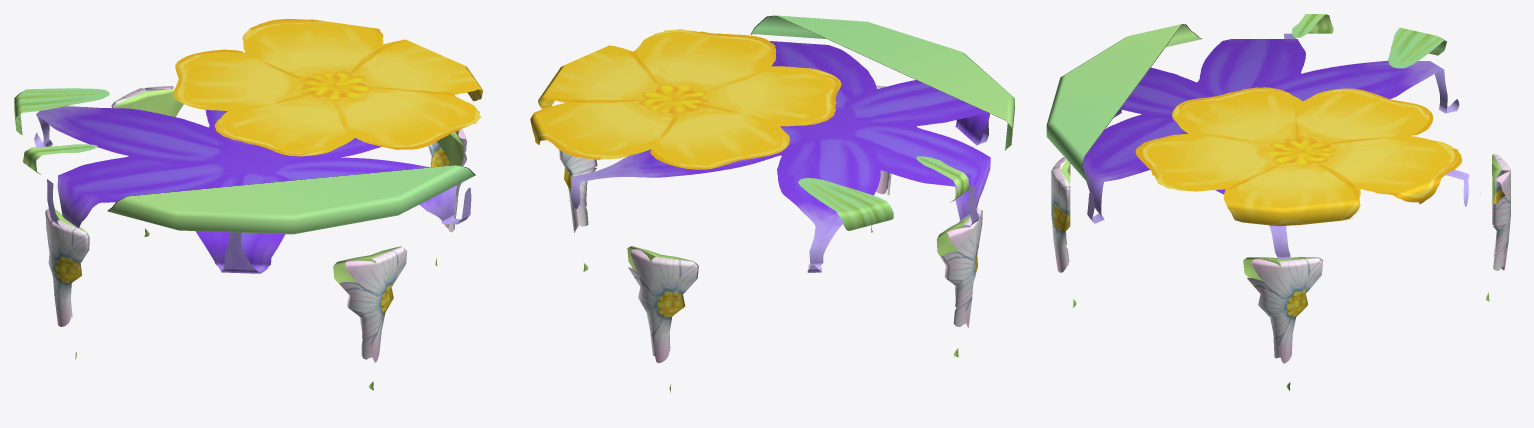
The model's file is RoundTable.fbx.
The picture shows the model from 3 angles, left to right: view 1: azimuth 30°, elevation 25°; view 2: azimuth 150°, elevation 25°; view 3: azimuth 270°, elevation 25°; orthographic projection. The views are drawn at different scales.
Visible parts, largest first — view 1: TableTop1; view 2: TableTop1; view 3: TableTop1.
Boxes of the visible parts, <box> form: TableTop1: <box>14,19,483,390</box>; TableTop1: <box>530,15,1014,392</box>; TableTop1: <box>1046,14,1510,390</box>.
Size of the model in its own units: 147 by 70.32 by 149.
